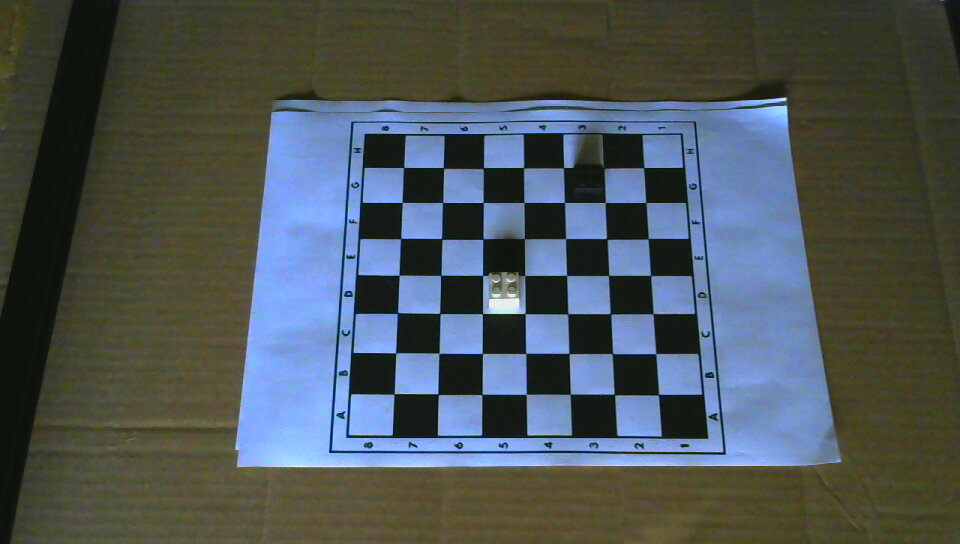bp: (571, 161, 607, 201)
wp: (485, 267, 523, 312)
